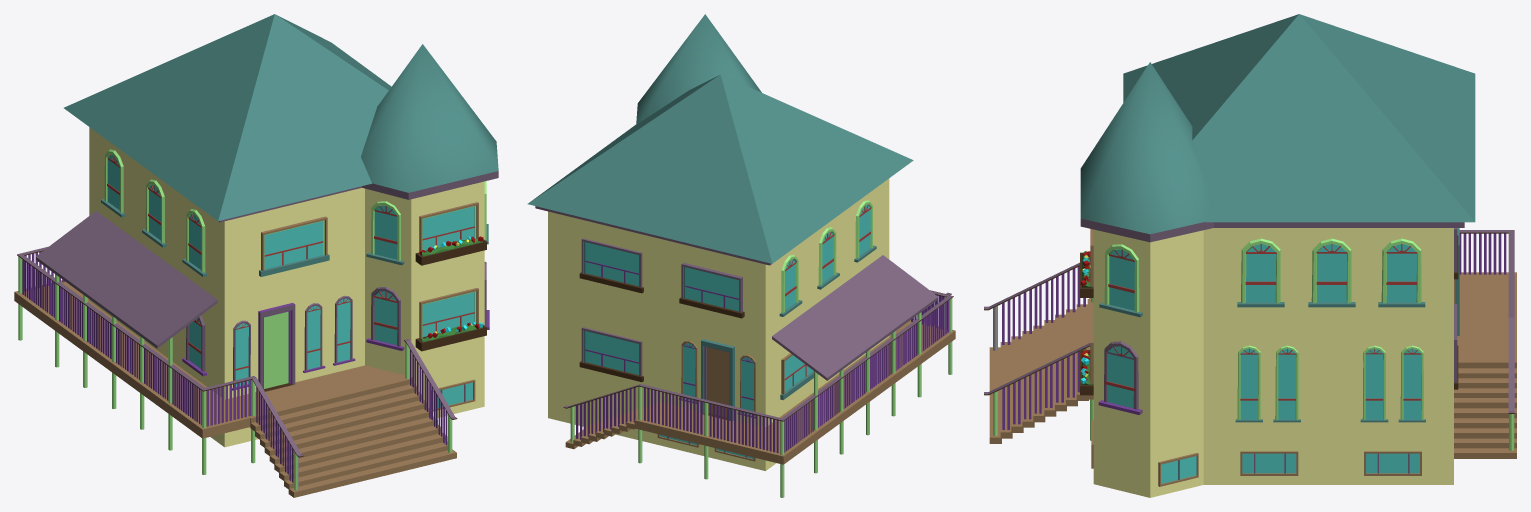
The model's file is house_6_with_materials.obj.
3 views of the same model, side by side, from view 1: azimuth 30°, elevation 25°; view 2: azimuth 150°, elevation 25°; view 3: azimuth 270°, elevation 25° (orthographic). The views are drawn at different scales.
Size of the model in its own units: 12.75 by 12.97 by 15.49.
